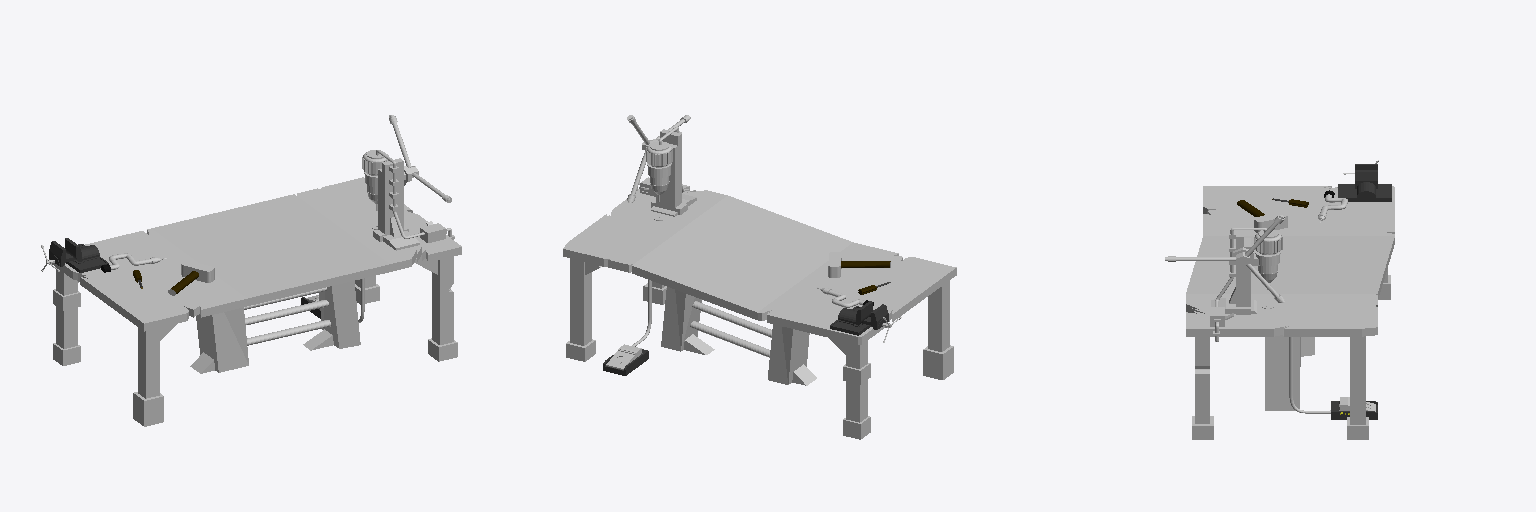
File: workbench_handmade.obj
3 renders of one model, left to right at view 1: azimuth 30°, elevation 25°; view 2: azimuth 150°, elevation 25°; view 3: azimuth 270°, elevation 25°, orthographic.
Size of the model in its own units: 2.5 by 1.54 by 1.49.